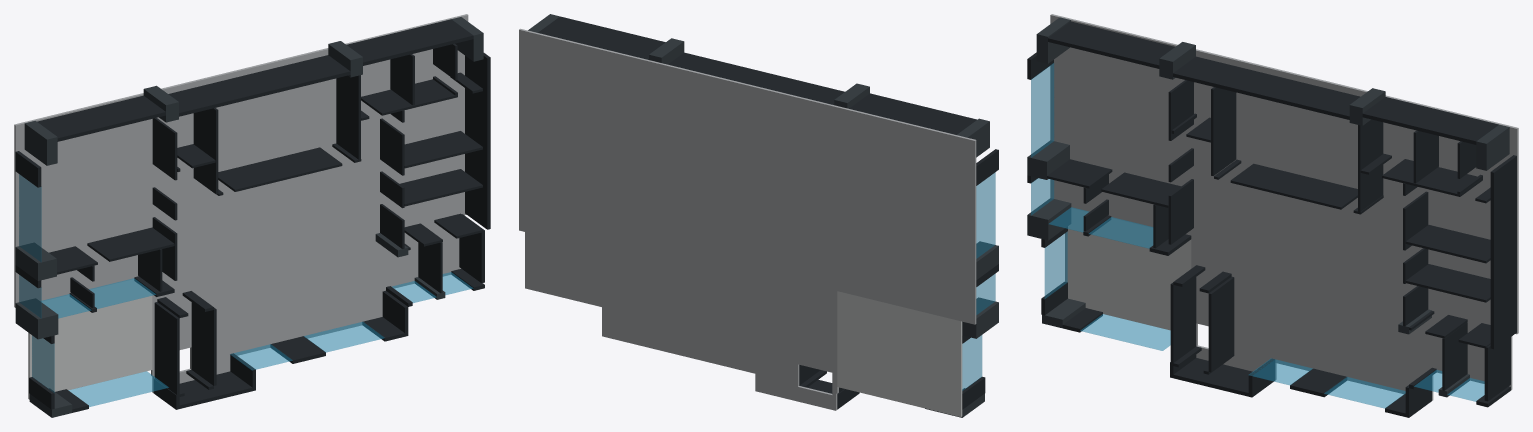
Rendered from villa_B1.obj.
3 renders of one model, left to right at view 1: azimuth 30°, elevation 25°; view 2: azimuth 150°, elevation 25°; view 3: azimuth 330°, elevation 25°, orthographic. The views are drawn at different scales.
Parts seen in each view (by area): view 1: B1_Floor_Main, B1_Terrace_Courtyard, B1_Wall_Exterior_002_North_Center, B1_Wall_Exterior_019_Services_EastUpper, B1_Wall_Exterior_001_Gym_North, B1_Wall_Exterior_003_Service_North, B1_Wall_Interior_009_CinemaSouth_Center, B1_Wall_Stair_001_From1F_West, B1_Wall_Interior_007_CinemaLaundry, B1_Wall_Stair_002_From1F_East, B1_Glass_006_Courtyard_South, B1_Wall_Interior_022_Electrical_Water (+42 smaller); view 2: B1_Floor_Main, B1_Terrace_Courtyard, B1_Wall_Exterior_002_North_Center, B1_Wall_Exterior_003_Service_North, B1_Wall_Exterior_001_Gym_North, B1_Glass_001_Gym_West, B1_Glass_003_Courtyard_West, B1_Column_006_West_Courtyard, B1_Column_005_West_GymStorage, B1_Column_001_NorthWest_Step, B1_Column_003_Laundry_North, B1_Glass_002_Storage_West (+3 smaller); view 3: B1_Floor_Main, B1_Terrace_Courtyard, B1_Wall_Exterior_019_Services_EastUpper, B1_Wall_Exterior_002_North_Center, B1_Wall_Exterior_003_Service_North, B1_Wall_Exterior_001_Gym_North, B1_Wall_Interior_009_CinemaSouth_Center, B1_Wall_Stair_002_From1F_East, B1_Wall_Interior_004_ShowerCinema, B1_Wall_Stair_001_From1F_West, B1_Wall_Interior_007_CinemaLaundry, B1_Wall_Interior_022_Electrical_Water (+39 smaller).
Boxes of the visible parts, x1,y1,x2,y2 form: B1_Floor_Main: (14, 14, 468, 393); B1_Terrace_Courtyard: (28, 279, 152, 399); B1_Wall_Exterior_002_North_Center: (168, 55, 350, 116); B1_Wall_Exterior_019_Services_EastUpper: (465, 53, 490, 229); B1_Wall_Exterior_001_Gym_North: (37, 95, 165, 141); B1_Wall_Exterior_003_Service_North: (346, 19, 473, 65); B1_Wall_Interior_009_CinemaSouth_Center: (218, 147, 342, 191); B1_Wall_Stair_001_From1F_West: (154, 302, 179, 394); B1_Wall_Interior_007_CinemaLaundry: (336, 75, 360, 159); B1_Wall_Stair_002_From1F_East: (191, 302, 216, 385); B1_Glass_006_Courtyard_South: (68, 371, 168, 406); B1_Wall_Interior_022_Electrical_Water: (400, 169, 482, 206); B1_Floor_Main: (519, 28, 976, 410); B1_Terrace_Courtyard: (837, 291, 962, 416); B1_Wall_Exterior_002_North_Center: (668, 52, 844, 104); B1_Wall_Exterior_003_Service_North: (538, 16, 665, 59); B1_Wall_Exterior_001_Gym_North: (849, 93, 976, 134); B1_Glass_001_Gym_West: (976, 172, 995, 258); B1_Glass_003_Courtyard_West: (962, 335, 982, 390); B1_Column_006_West_Courtyard: (962, 297, 998, 338); B1_Column_005_West_GymStorage: (976, 241, 998, 279); B1_Column_001_NorthWest_Step: (957, 118, 989, 157); B1_Column_003_Laundry_North: (649, 38, 684, 64); B1_Glass_002_Storage_West: (976, 274, 995, 314); B1_Floor_Main: (1050, 14, 1518, 400); B1_Terrace_Courtyard: (1065, 208, 1191, 330); B1_Wall_Exterior_019_Services_EastUpper: (1490, 155, 1516, 349); B1_Wall_Exterior_002_North_Center: (1173, 56, 1360, 119); B1_Wall_Exterior_003_Service_North: (1362, 97, 1498, 144); B1_Wall_Exterior_001_Gym_North: (1048, 21, 1174, 68); B1_Wall_Interior_009_CinemaSouth_Center: (1230, 163, 1357, 209); B1_Wall_Stair_002_From1F_East: (1208, 276, 1234, 372); B1_Wall_Interior_004_ShowerCinema: (1211, 87, 1236, 175); B1_Wall_Stair_001_From1F_West: (1170, 277, 1196, 363); B1_Wall_Interior_007_CinemaLaundry: (1358, 119, 1383, 211); B1_Wall_Interior_022_Electrical_Water: (1405, 264, 1490, 302).
Bounding box in the file's own units: 37.47 × 24.28 × 3.4.
